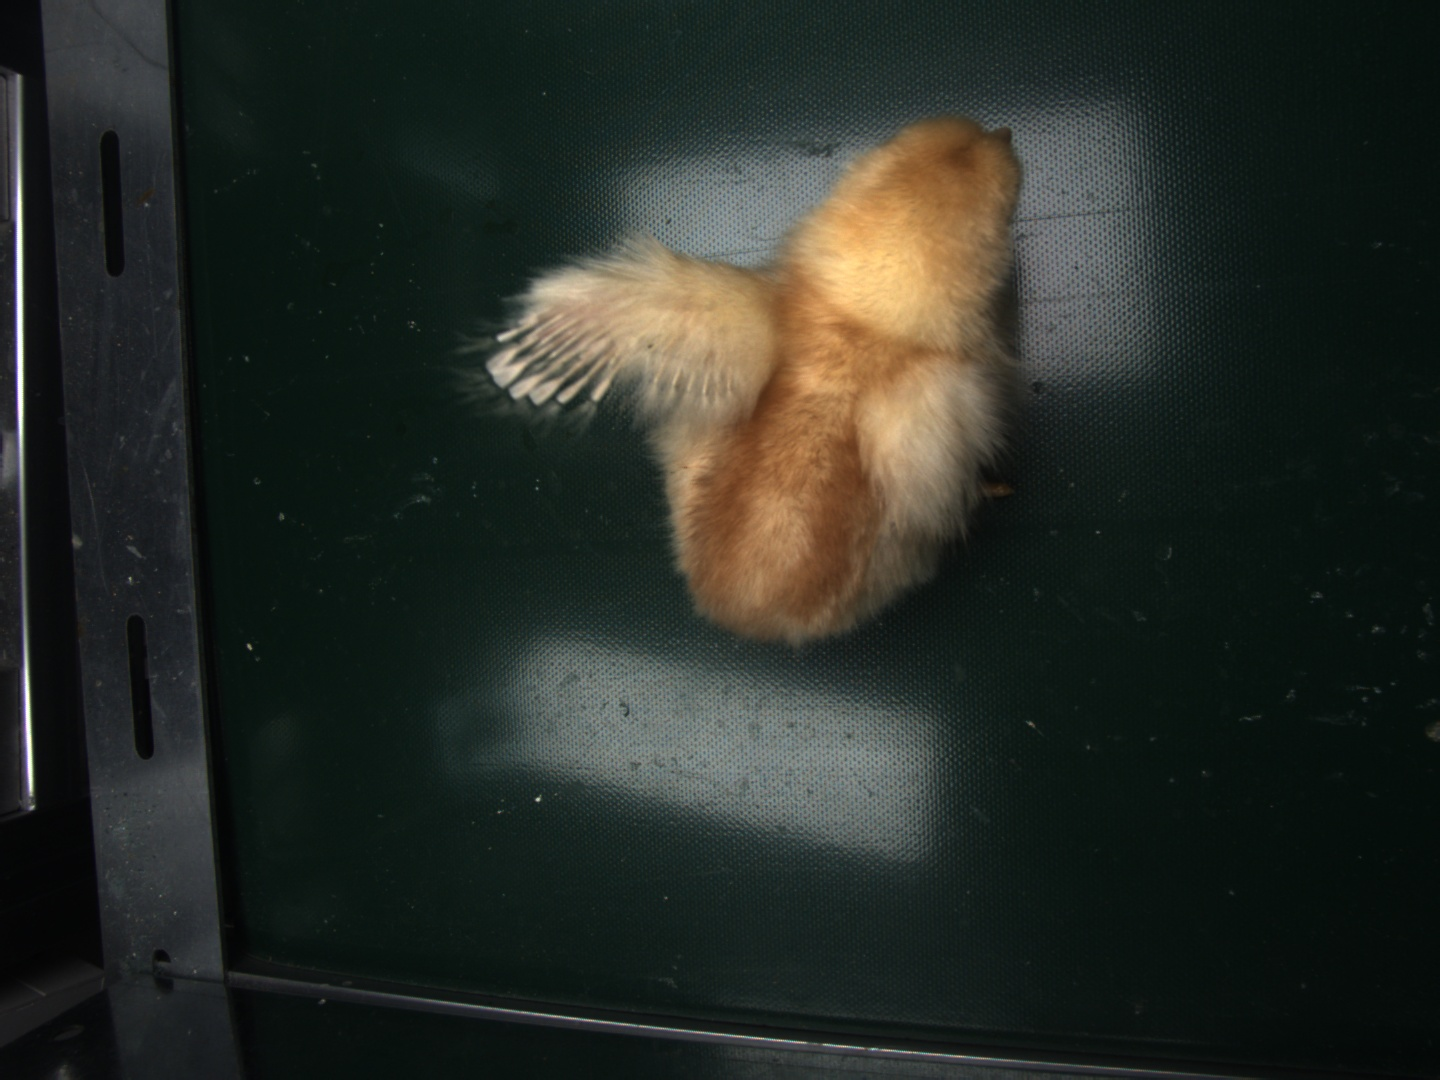female: (491, 306, 615, 405)
